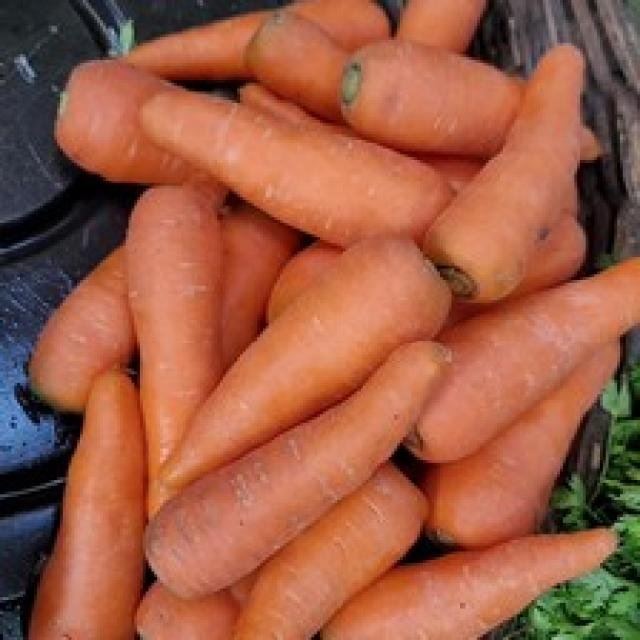Fresh_Carrot: (132, 343, 452, 604), (166, 234, 461, 479), (424, 47, 594, 313), (136, 111, 458, 245), (221, 472, 424, 640), (314, 538, 619, 640), (126, 187, 214, 531)
